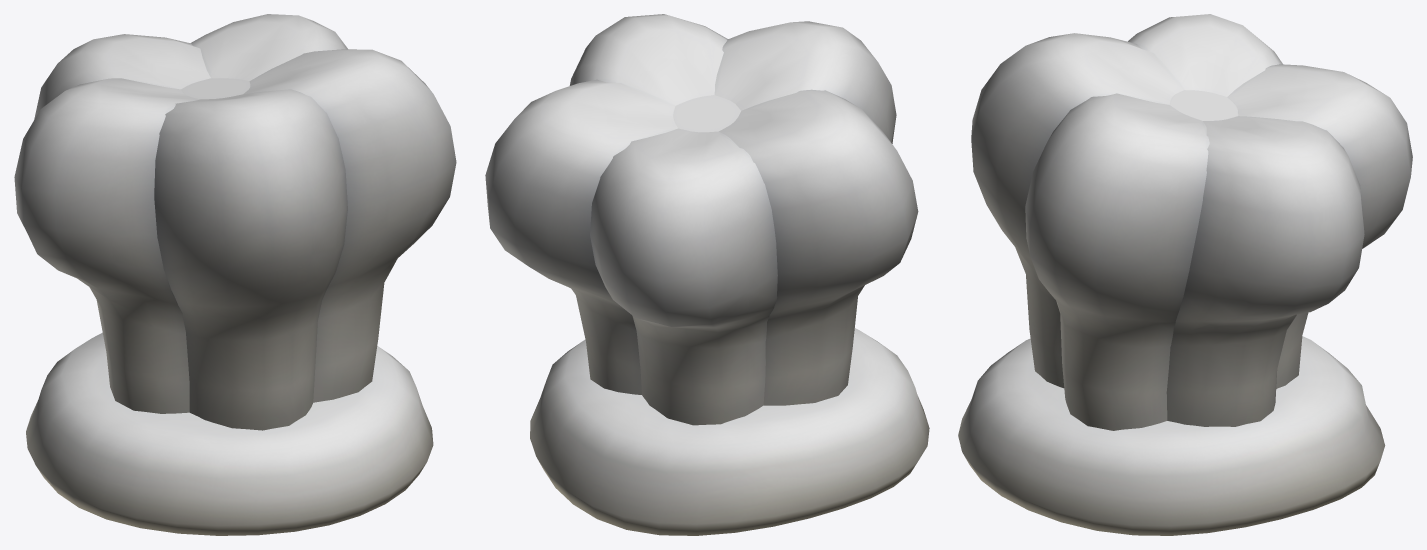
Rendered from Chef_Hat.glb.
The picture shows the model from 3 angles, left to right: view 1: azimuth 30°, elevation 25°; view 2: azimuth 150°, elevation 25°; view 3: azimuth 270°, elevation 25°; orthographic projection. The views are drawn at different scales.
Parts seen in each view (by area): view 1: Chef_Hat; view 2: Chef_Hat; view 3: Chef_Hat.
Part boxes in pixels (x1,y1,x2,y2): Chef_Hat: (14, 14, 456, 535); Chef_Hat: (485, 14, 929, 535); Chef_Hat: (958, 14, 1412, 535).
Size of the model in its own units: 0.4872 by 0.4997 by 0.5084.
1 material, 1 textured.
